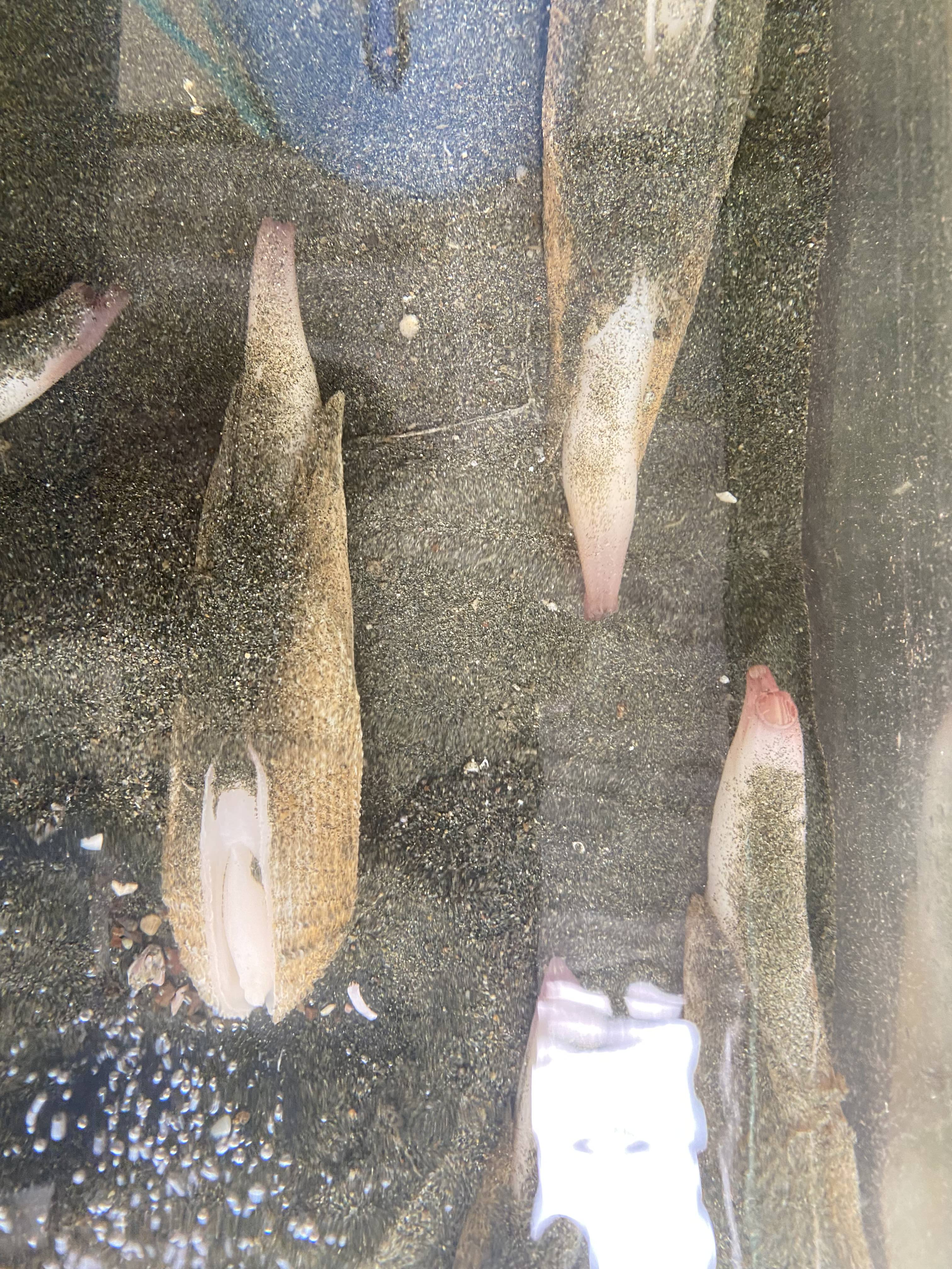Healthy: (163, 218, 362, 1022), (542, 0, 766, 618), (684, 667, 870, 1269), (0, 283, 129, 421)
